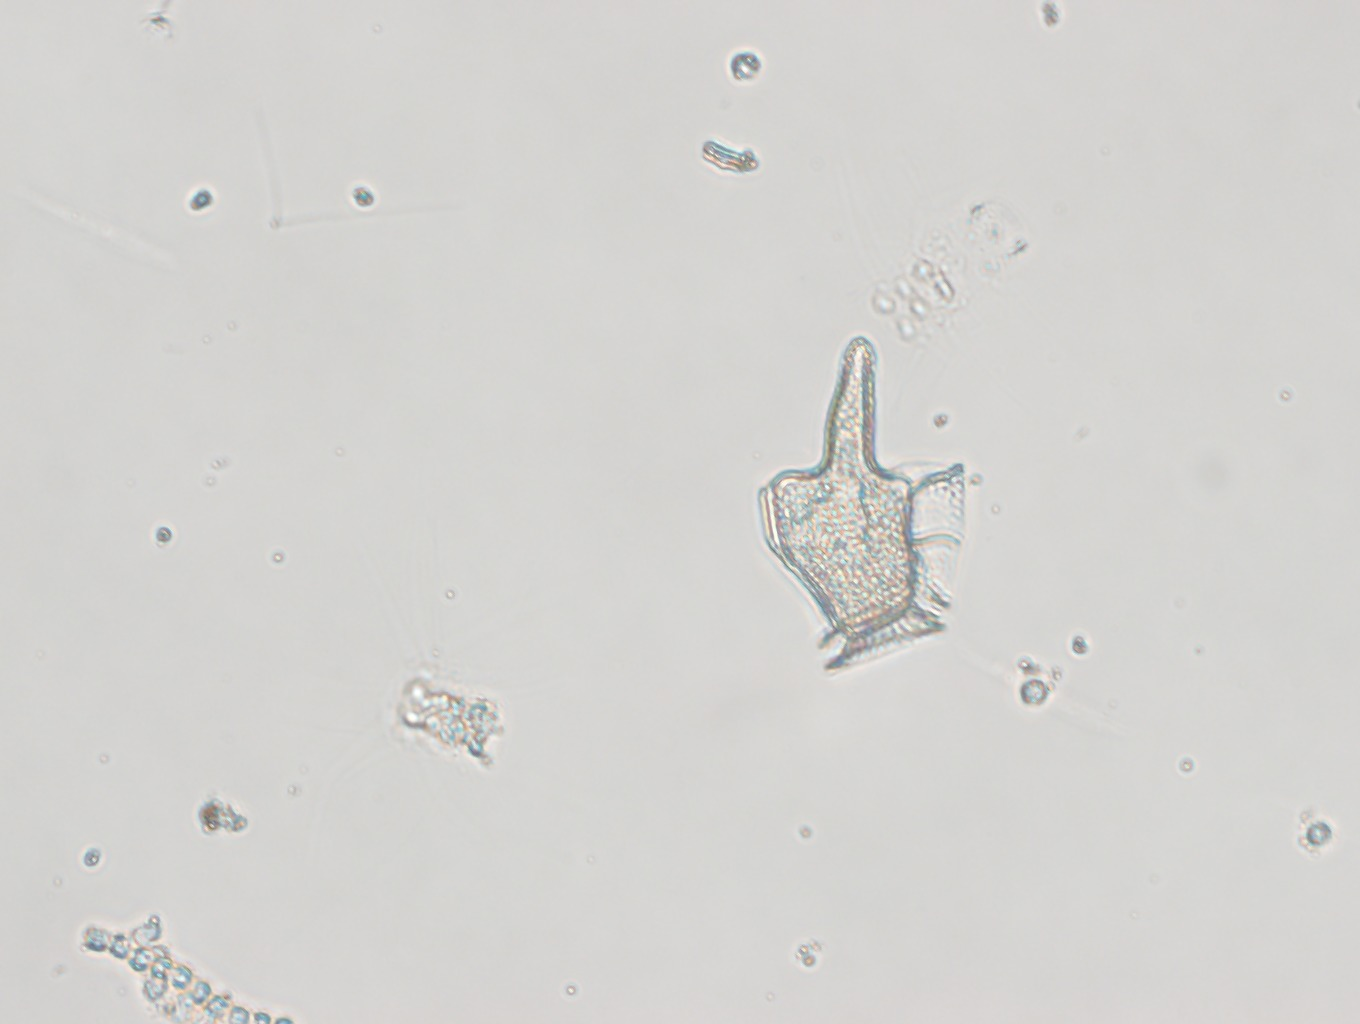dinophysis caudata: (753, 330, 968, 673)
skeletonema: (81, 925, 291, 1019)
